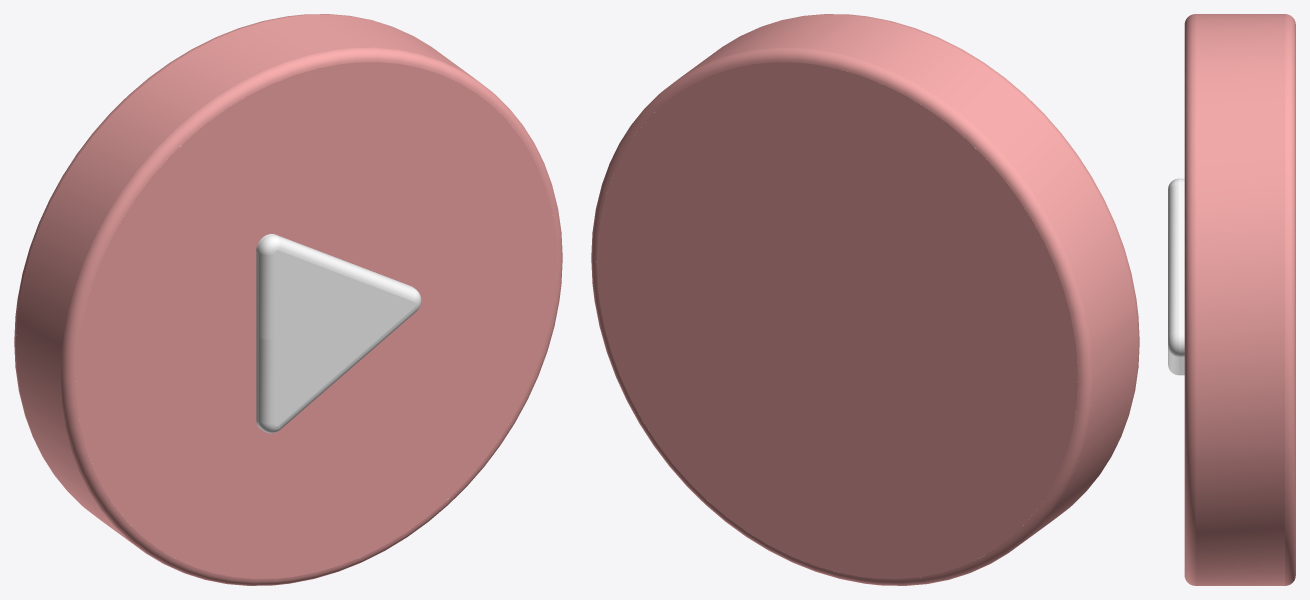
Rendered from movieDraco.gltf.
3 views of the same model, side by side, from view 1: azimuth 30°, elevation 25°; view 2: azimuth 150°, elevation 25°; view 3: azimuth 270°, elevation 25° (orthographic).
Parts seen in each view (by area): view 1: キャップ 1 (×2), Path (×2), 丸み 1 (×2), 丸み 2; view 2: キャップ 2, Path, 丸み 2, 丸み 1; view 3: Path (×2), 丸み 1 (×2), 丸み 2.
Boxes of the visible parts, left/top/right/bottom form: キャップ 1 (×2): left=76, top=62, right=556, bottom=578; Path (×2): left=15, top=14, right=474, bottom=550; 丸み 1 (×2): left=61, top=47, right=562, bottom=585; 丸み 2: left=14, top=14, right=392, bottom=488; キャップ 2: left=597, top=62, right=1077, bottom=578; Path: left=679, top=14, right=1138, bottom=550; 丸み 2: left=591, top=47, right=1092, bottom=585; 丸み 1: left=761, top=14, right=1139, bottom=488; Path (×2): left=1179, top=14, right=1284, bottom=585; 丸み 1 (×2): left=1168, top=14, right=1195, bottom=585; 丸み 2: left=1285, top=14, right=1295, bottom=585.
Size of the model in its own units: 0.416 by 0.416 by 0.093.
